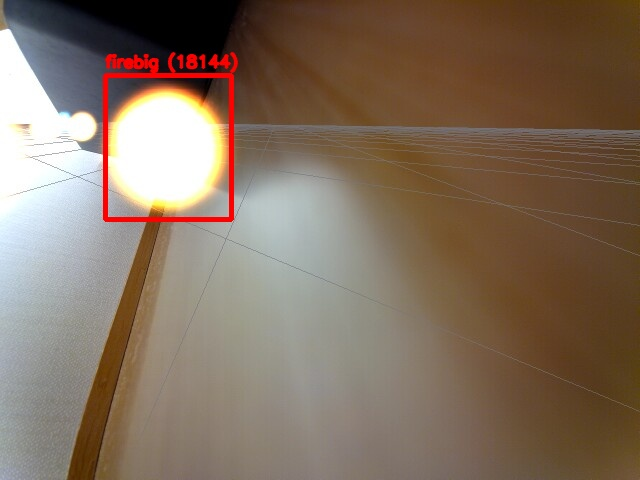firebig: (105, 75, 231, 219)
